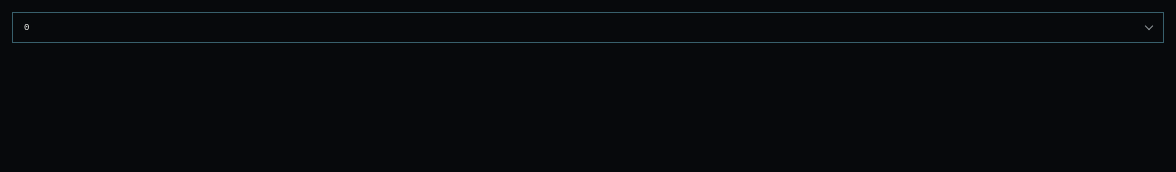
Test: DarkSelect › shows every option regardless of the selected value
Click the button named "Field strength" at (27, 28), box [12,12,1164,43]
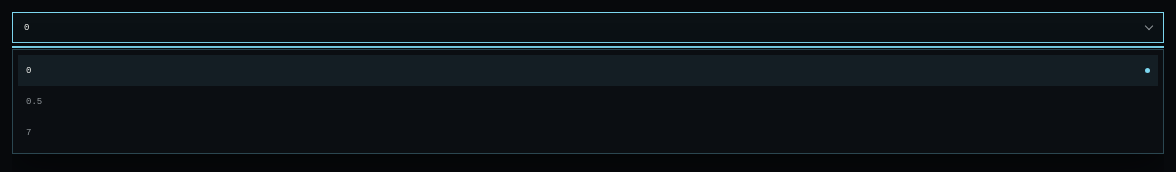
Expected: the options read "0", "0.5", "7", in this order, [18,55,1158,86]; [18,86,1158,117]; [18,117,1158,148]
